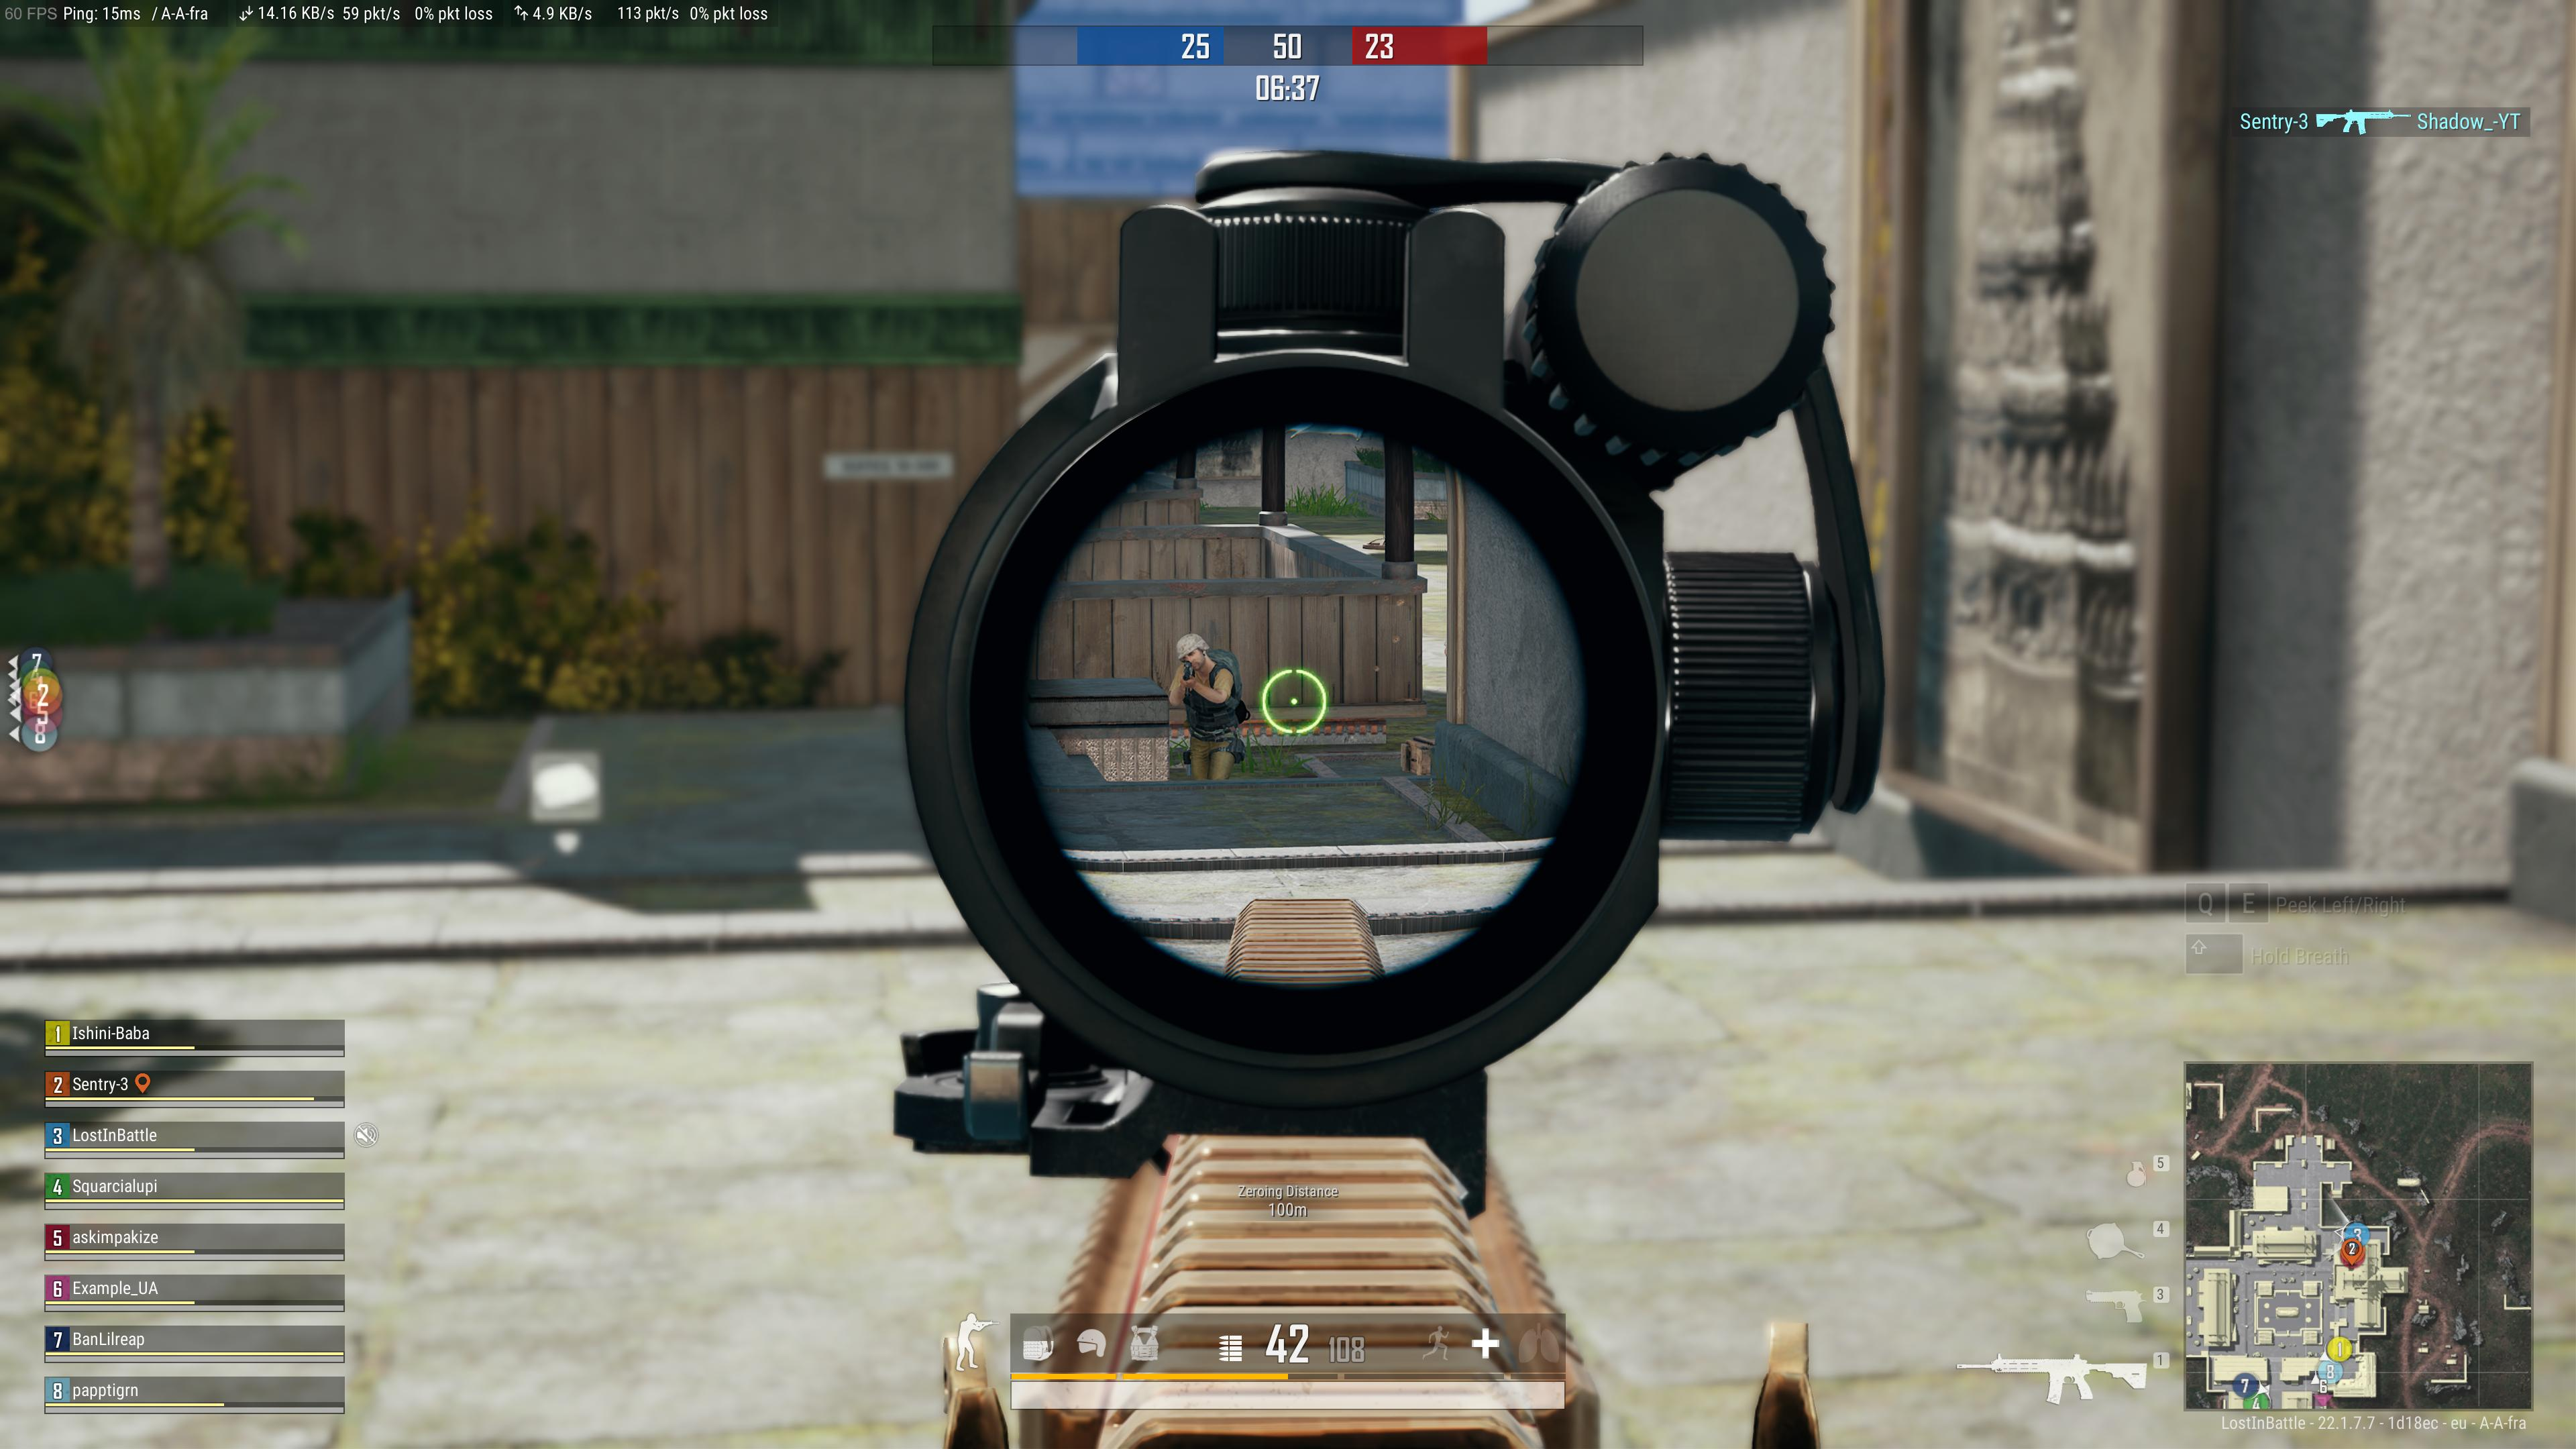enemy: (1166, 632, 1247, 780)
enemy_head: (1175, 633, 1210, 671)
